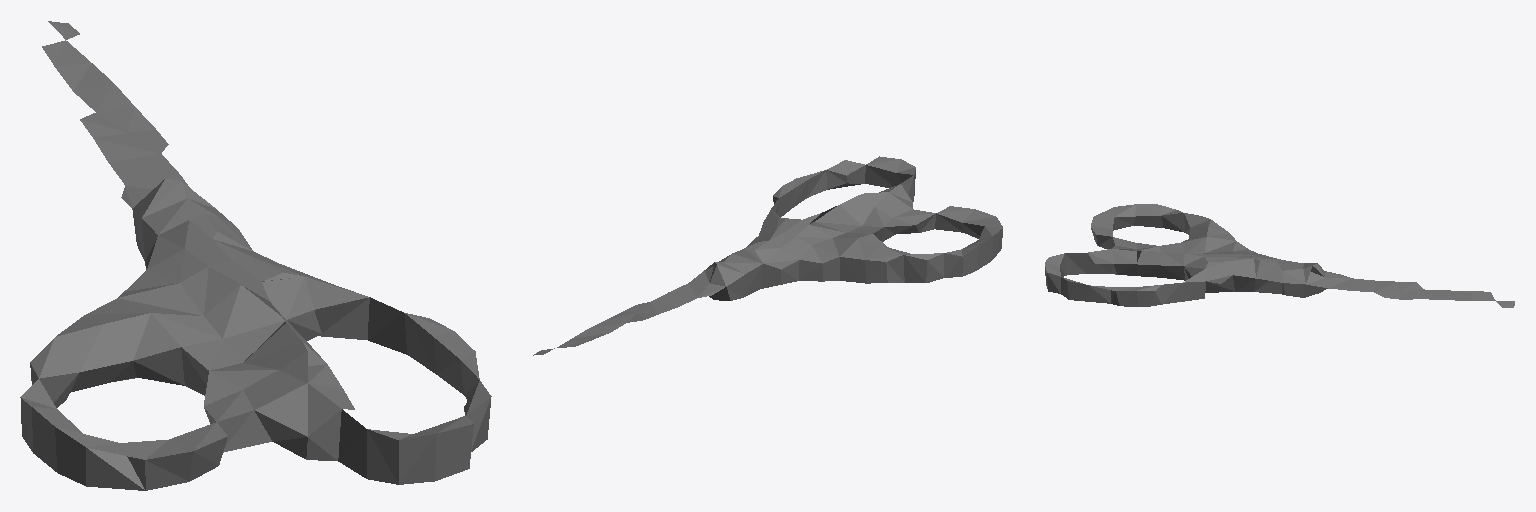
URDF robot description (base.urdf):
<?xml version='1.0' encoding='utf-8'?>
<robot name="base.urdf">
  <link name="baseLink">
    <contact>
      <lateral_friction value="0.5" />
      <rolling_friction value="0.0" />
      <contact_cfm value="0.0" />
      <contact_erp value="1.0" />
    </contact>
    <inertial>
      <origin rpy="0 0 0" xyz="0.015003572580688898 0.002710916122119828 0.007153367375146343" />
       <mass value="0.1" />
       <inertia ixx="1e-3" ixy="0" ixz="0" iyy="1e-3" iyz="0" izz="1e-3" />
    </inertial>
    <visual>
      <origin rpy="0 0 0" xyz="0 0 0" />
      <geometry>
        <mesh filename="base.stl" scale="1 1 1" />
      </geometry>
       <material name="gray">
        <color rgba="0.5 0.5 0.5 1" />
      </material>
    </visual>
    <collision concave="yes">
      <geometry>
        <mesh filename="base.stl" scale="1 1 1" />
      </geometry>
    </collision>
  </link>
</robot>

--- Render facts (derived) ---
The picture shows the robot from 3 angles, left to right: view 1: azimuth 30°, elevation 25°; view 2: azimuth 150°, elevation 25°; view 3: azimuth 270°, elevation 25°; orthographic projection.
Robot: base.urdf — 1 links, 0 joints (none); root link baseLink; default pose: all joints at 0.
Links seen in each view (by area): view 1: baseLink; view 2: baseLink; view 3: baseLink.
Link boxes in pixels (x1,y1,x2,y2): baseLink: (20,21,491,490); baseLink: (533,156,1002,355); baseLink: (1045,204,1514,307).
Bounding box of the posed robot: 0.094 × 0.1967 × 0.0143 m (x, y, z).
1 mesh visuals loaded from 1 distinct referenced files (1 binary STL).